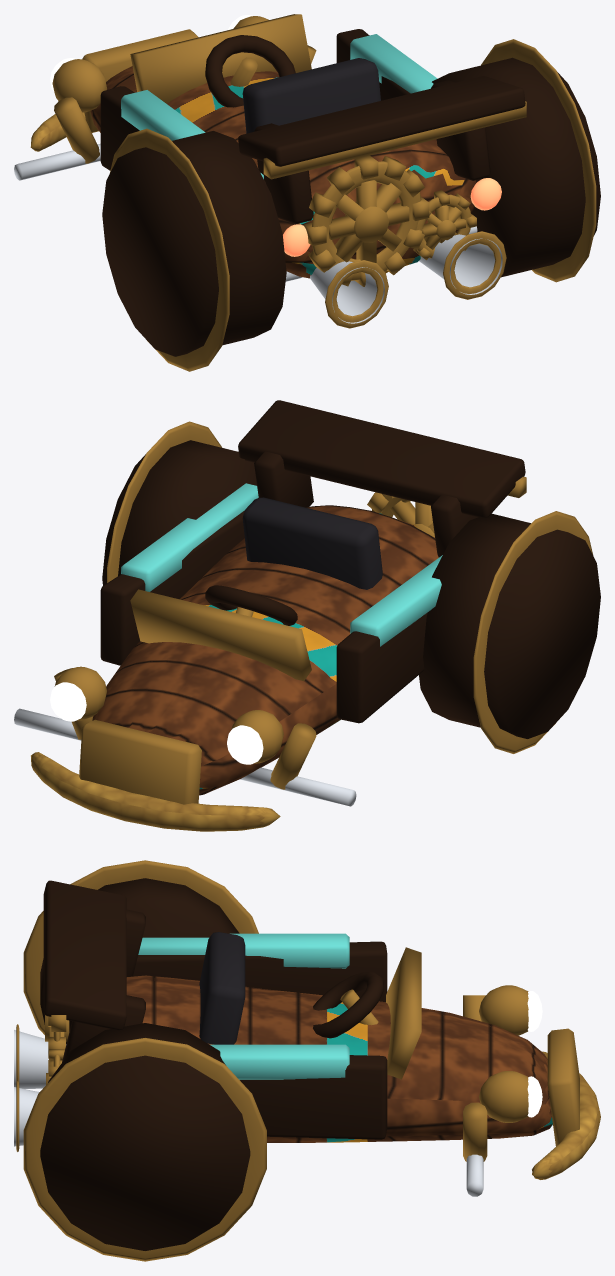
Rendered from kart_chassis.glb.
3 views of the same model, one above another, from view 1: azimuth 30°, elevation 25°; view 2: azimuth 150°, elevation 25°; view 3: azimuth 270°, elevation 25° (orthographic).
Parts seen in each view (by area): view 1: KartHull; view 2: KartHull; view 3: KartHull.
Part boxes in pixels (x1,y1,x2,y2): KartHull: (14,14,600,371); KartHull: (14,400,600,831); KartHull: (14,860,600,1261).
Size of the model in its own units: 2.4 by 1.38 by 3.13.
Materials: 8 (4 with a texture image).
